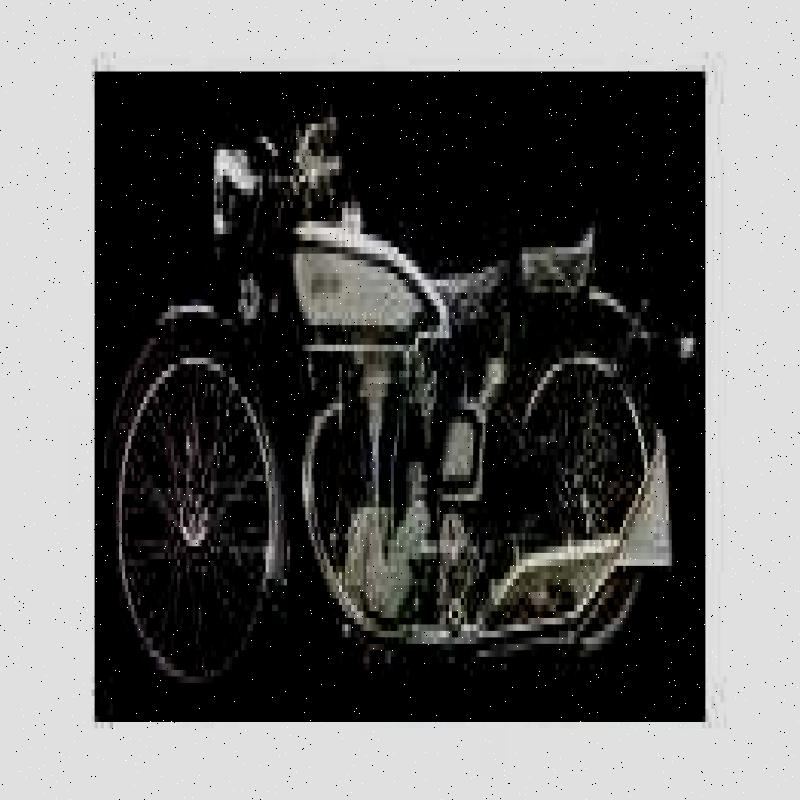bike: (109, 79, 682, 705)
